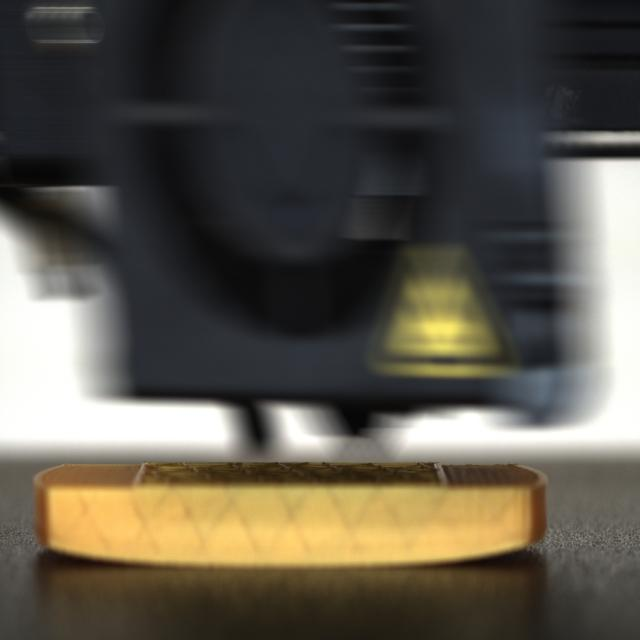Warping: (457, 534, 546, 568), (36, 536, 108, 568)
